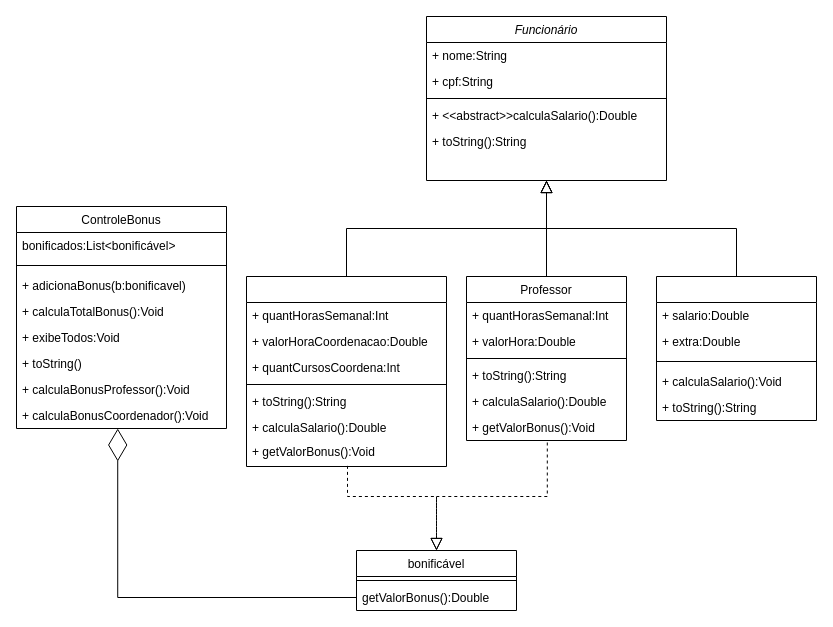
The diagram is 833 pixels wide and 627 high, and some of its shapes have lost their labels. The shapes that lost their labels are listed below. From the top down, each one's box as (x1, y1, x2, y2) in pixels, then its label:
(656, 276, 816, 420): Secretária
(246, 276, 446, 466): Coordenador
